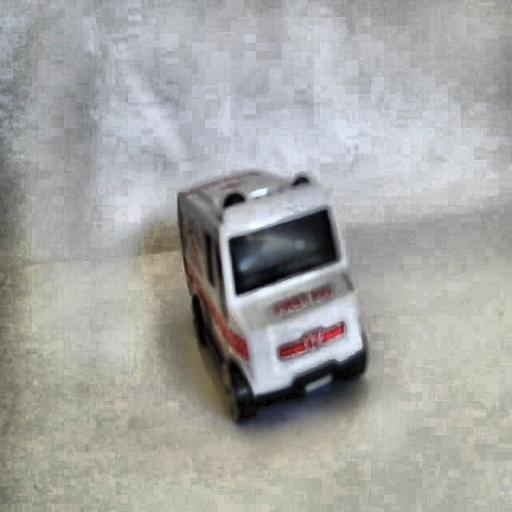ambulance: (176, 168, 367, 424)
